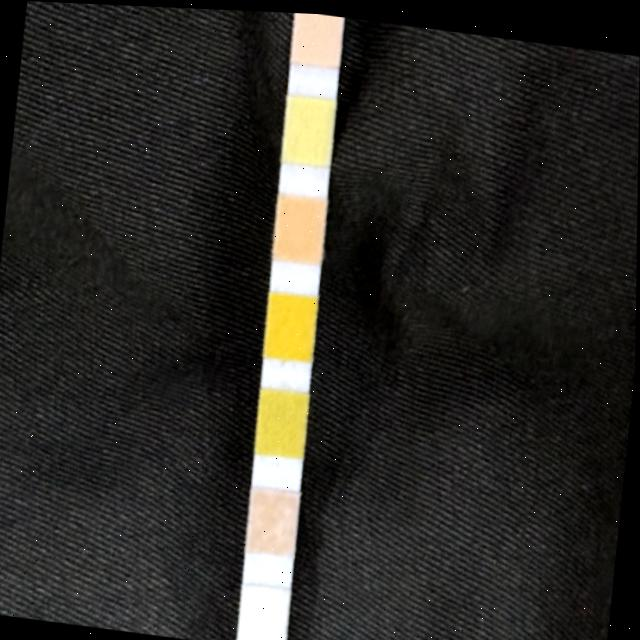Bilirubin: (239, 581, 292, 640)
Blood: (264, 284, 319, 358)
Ketone: (248, 484, 300, 550)
Protein: (282, 92, 336, 161)
SpGravity: (256, 385, 310, 452)
Urobilinogen: (290, 10, 344, 63)
pH: (272, 190, 326, 260)
